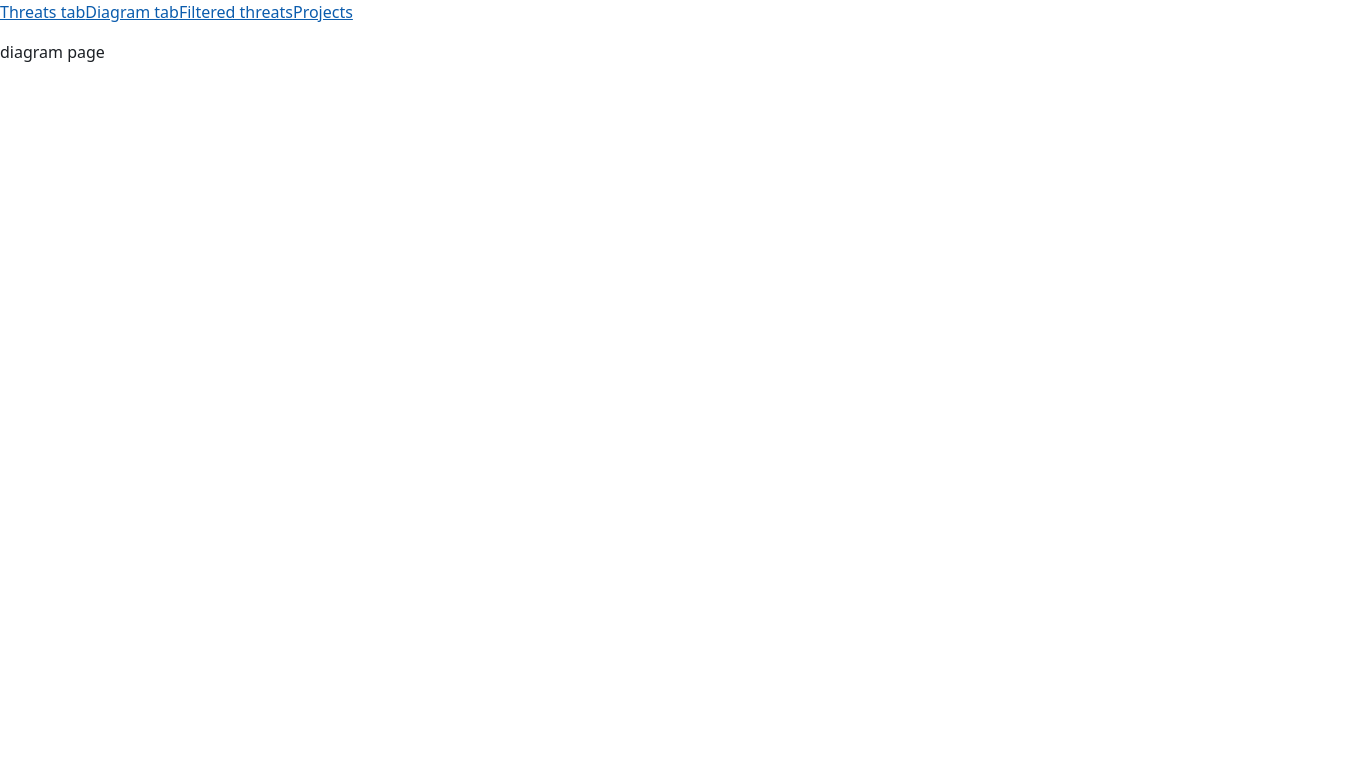
Scenario: leaving the threat model with unsaved changes › stays on the page when told to stay
The width and height of the screenshot is (1366, 768).
What coordinates should you click on to do the following:
click the link "Projects"
I would click on:
 (323, 12)
Its box is [293,1,353,23].
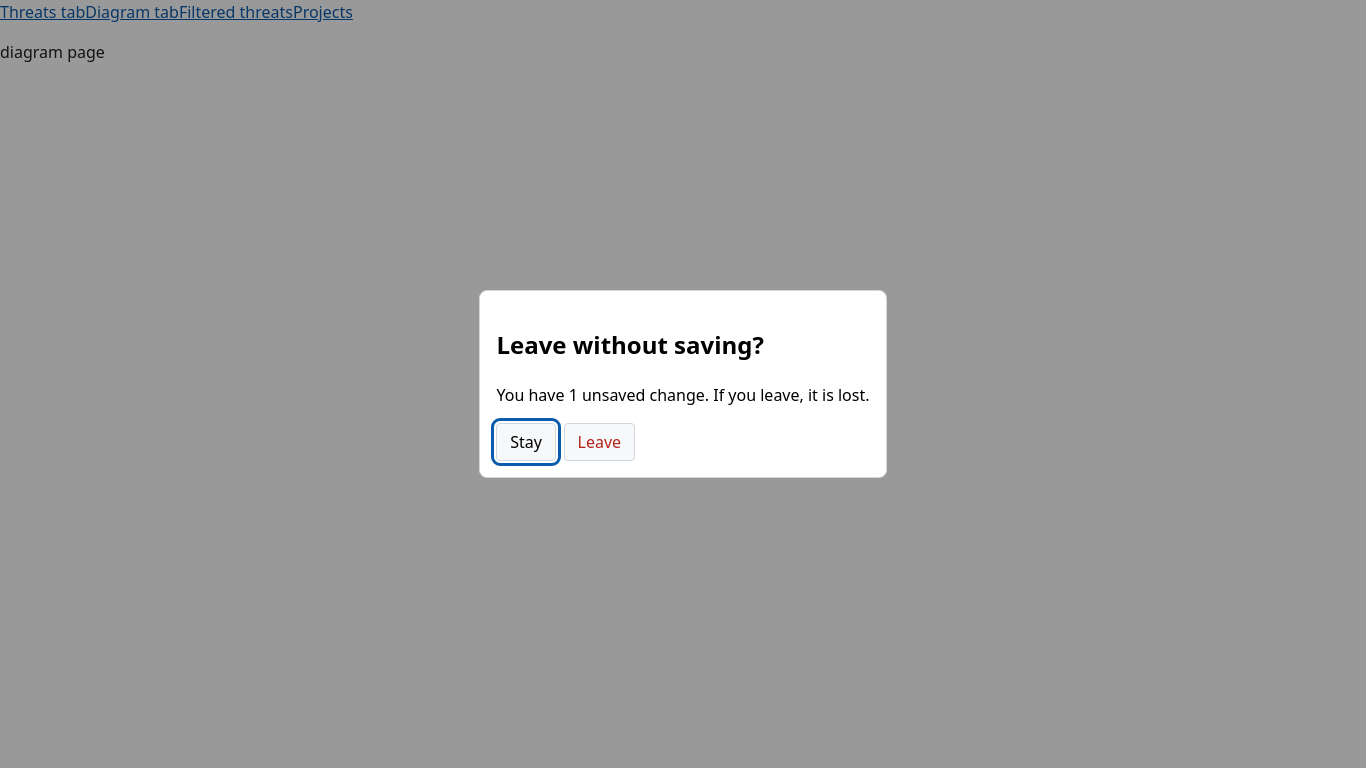
What coordinates should you click on to do the following:
click the button "Stay"
I would click on:
 (526, 442)
Its box is [496,422,556,461].
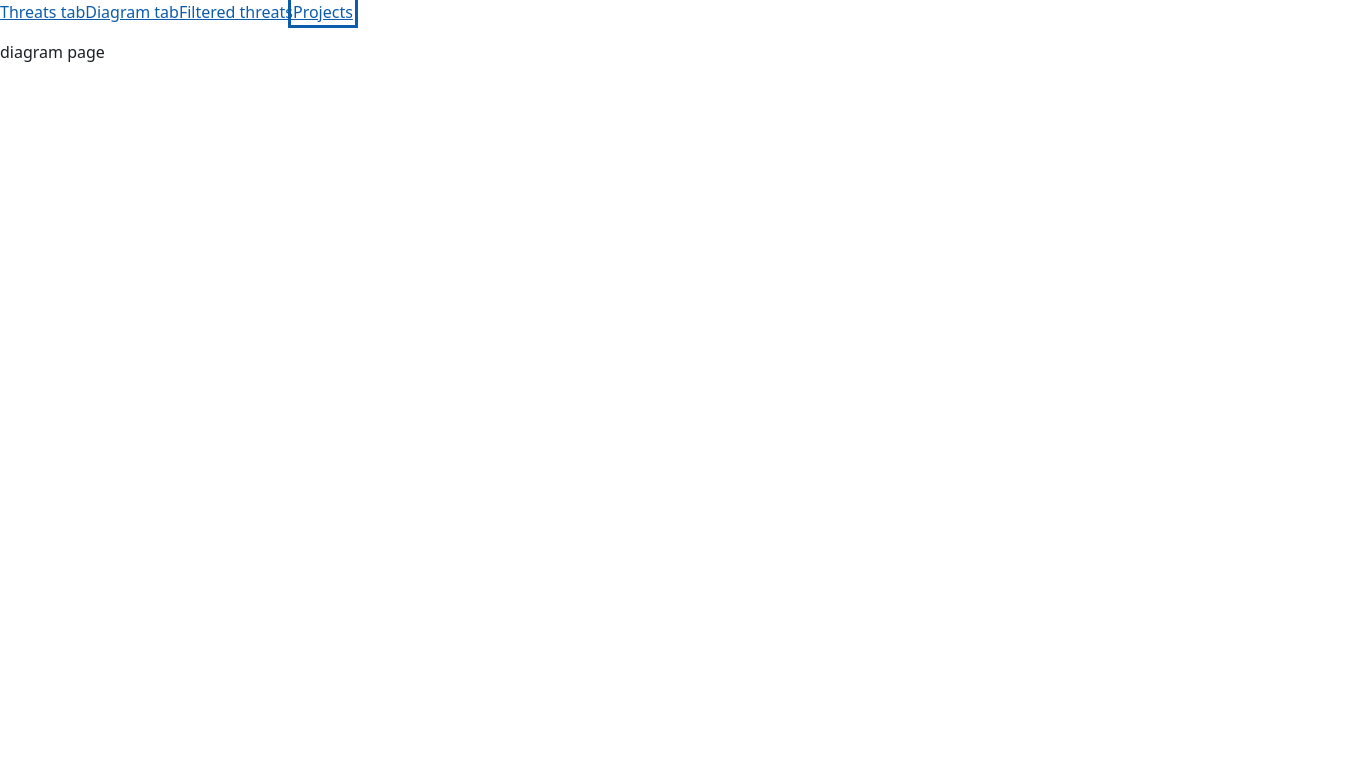
Result: the dialog is gone
